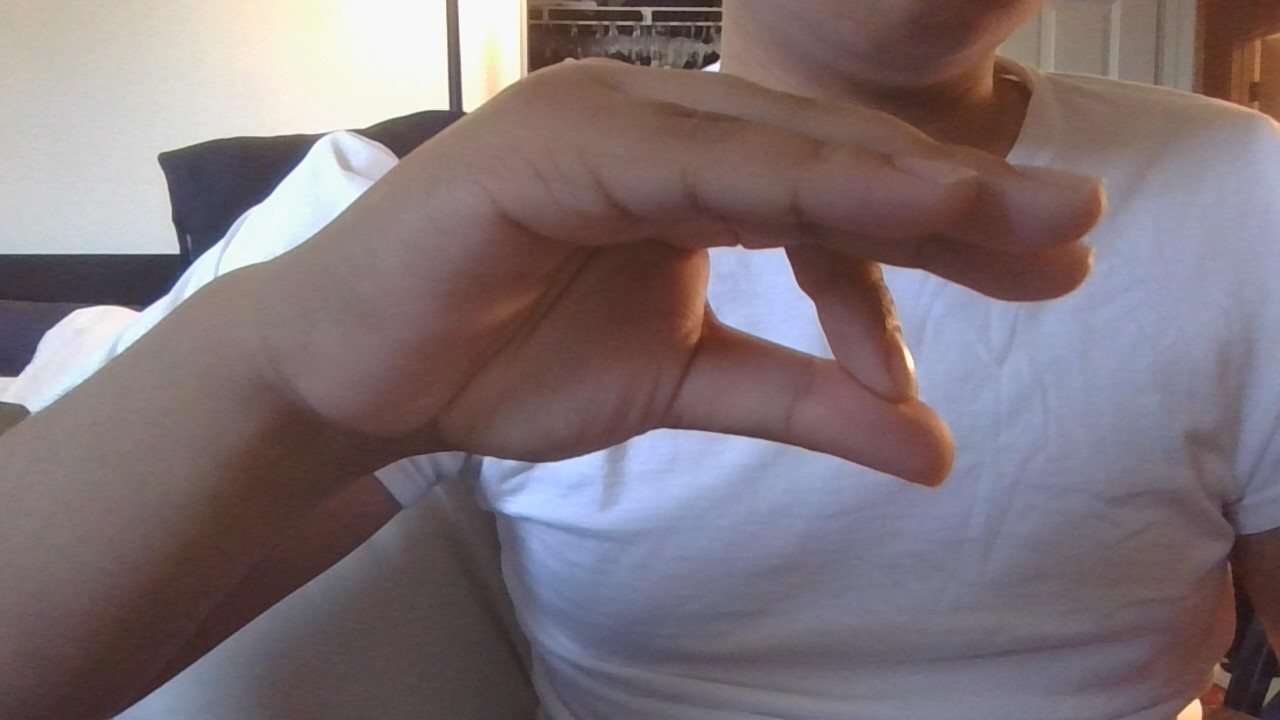z: (240, 27, 1177, 547)
